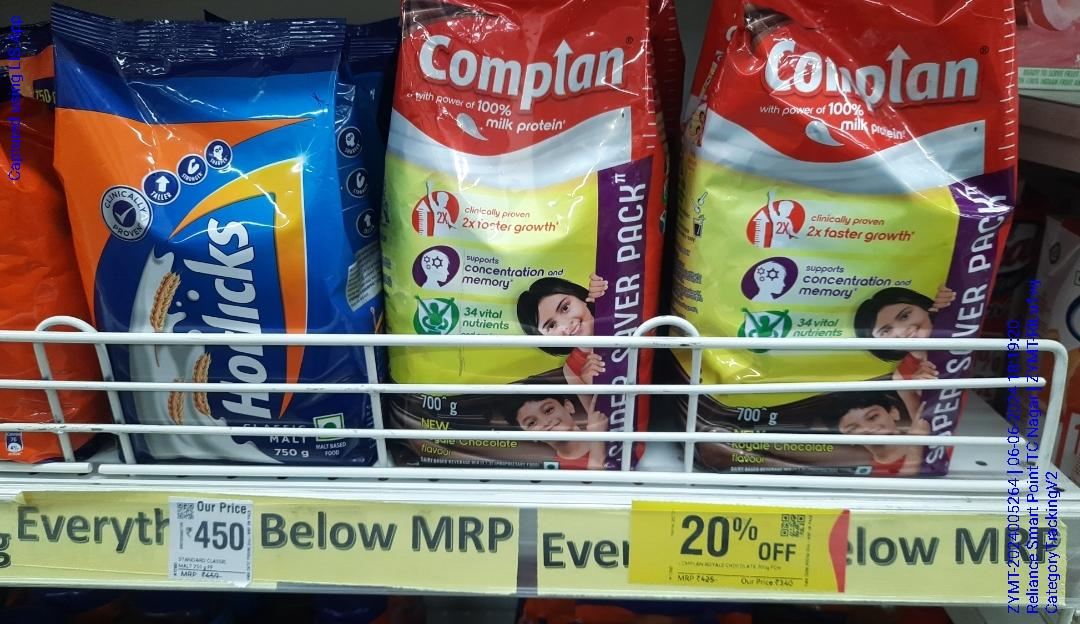COMPLAN_RC_POUCH_700_GMS_12: (694, 0, 986, 494), (384, 1, 645, 473)
HORLICK_CLASSIC_MALT_750_G_POUCH: (80, 40, 350, 508)
